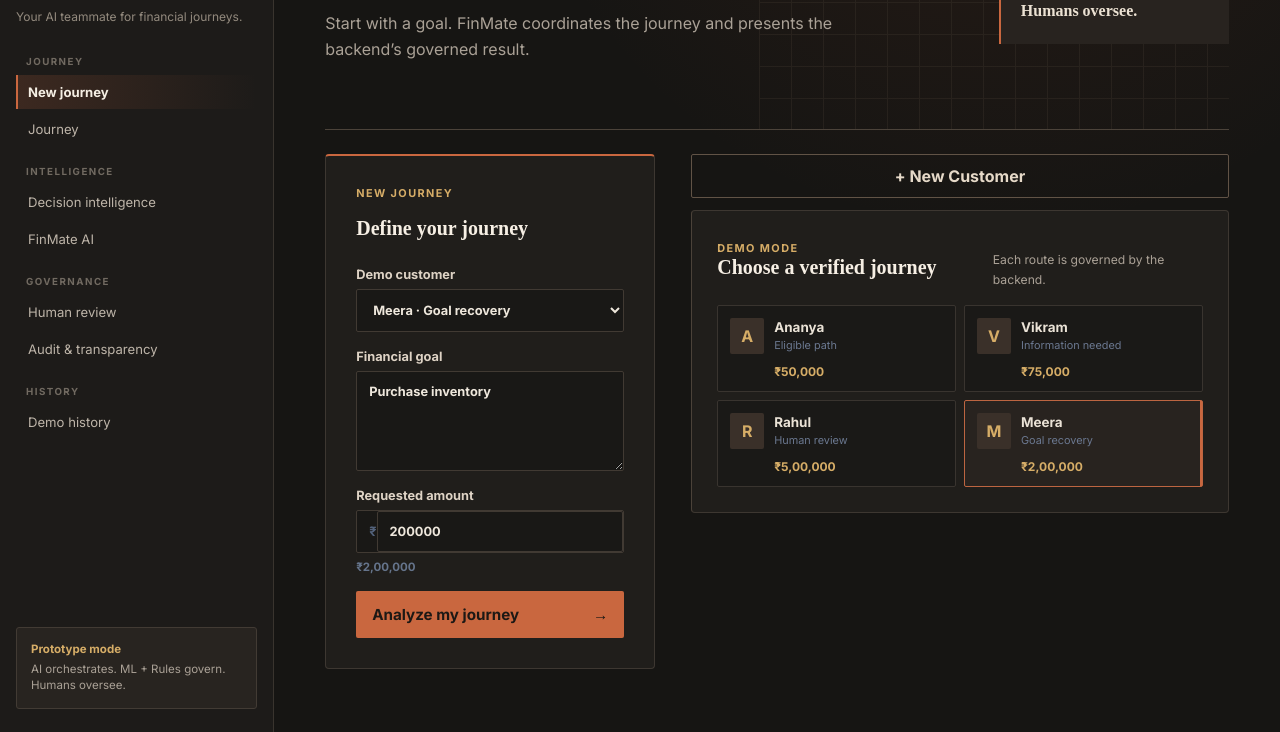
Scenario: FinMate journey UI › renders an eligible governed next step without approval language
(page scrolled)
Click the button "Analyze my journey →". click: (490, 614)
box: [356,591,624,638]
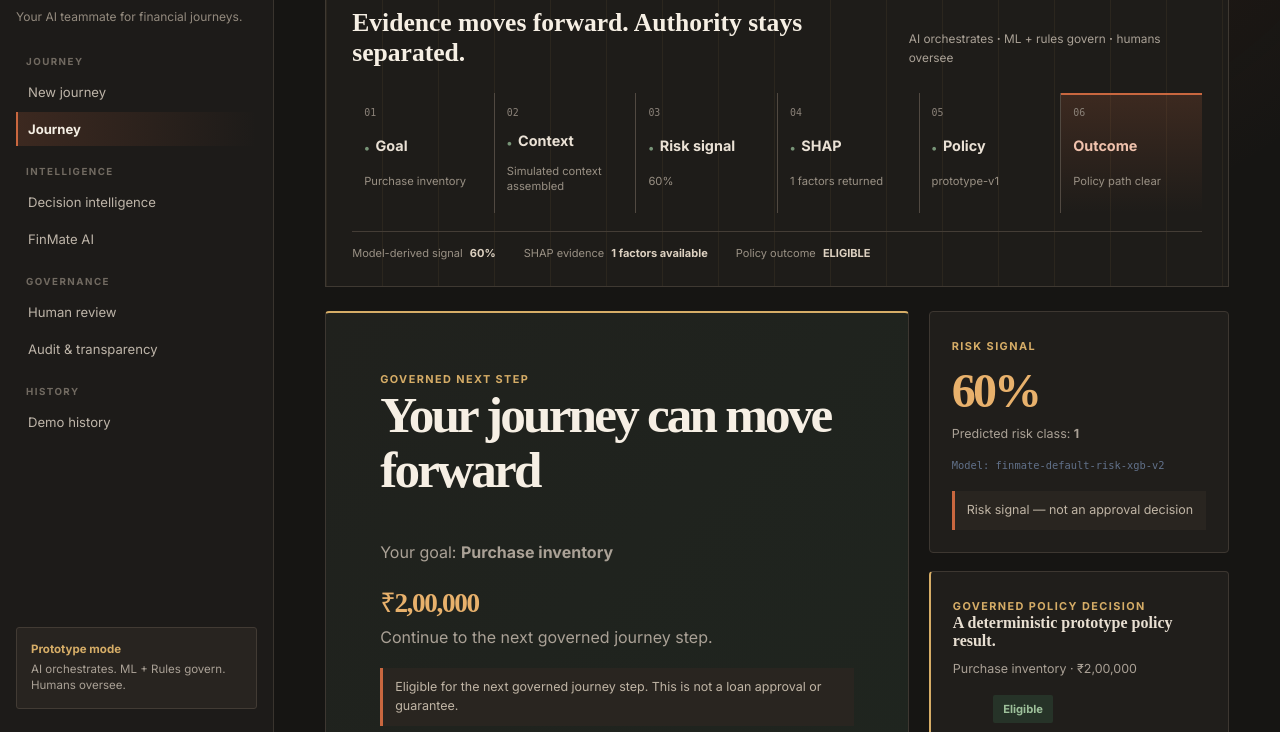
Expected: the heading "Your journey can move forward" is shown, [380,387,854,498]
Expected: the text "Eligible for the next governed journey step" is shown, [395,679,822,713]
